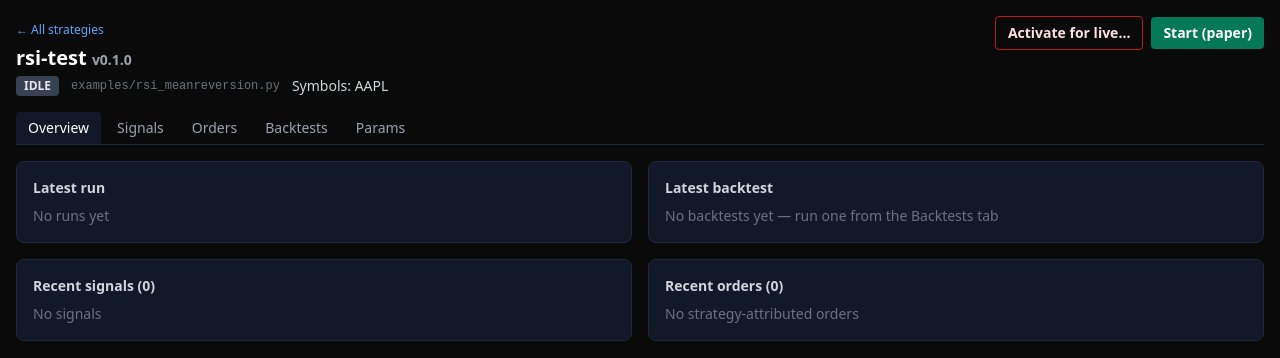
Test: StrategyDetailPage › switches between tabs
Expected: the heading "rsi-test v0.1.0" is shown, [16,44,132,71]
Expected: the text "Latest run" is shown, [33,178,105,197]
What coordinates should you click on to do the following:
click the button "Signals"
I would click on:
 (140, 128)
Its box is [105,112,176,144].
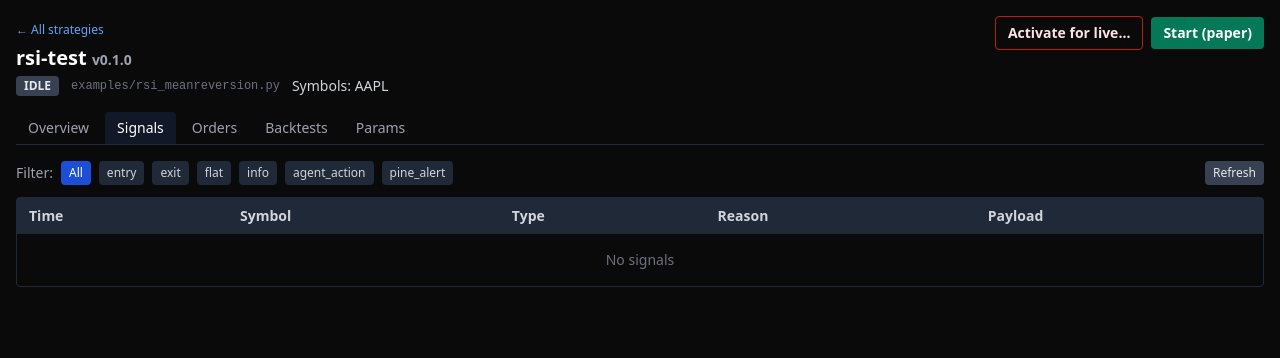
Expected: the text "Filter:" is shown, [16,163,53,183]
What coordinates should you click on to do the following:
click the button "Backtests"
I would click on:
 (297, 128)
Its box is [253,112,340,144].
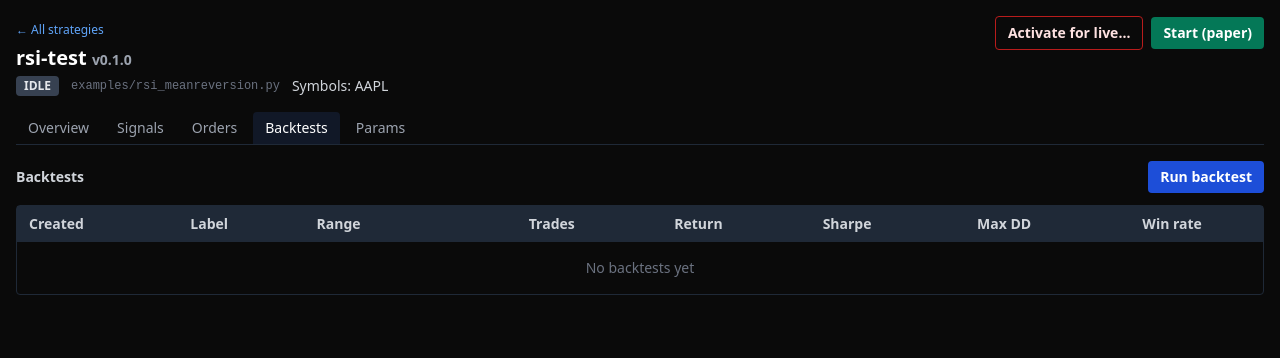
Expected: the button "Run backtest" is shown, [1148,161,1264,193]
